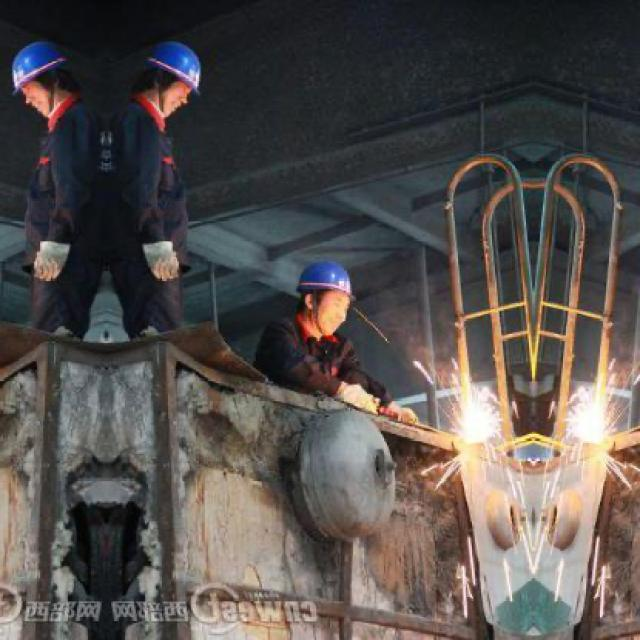con casco: (287, 245, 377, 333), (134, 30, 206, 111), (11, 33, 84, 110)
